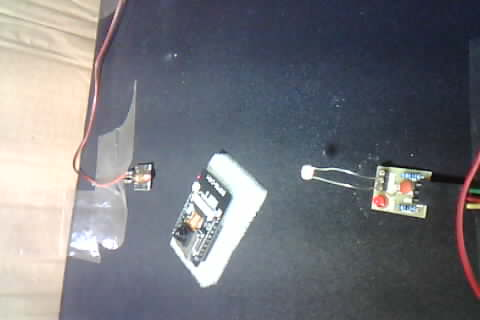esp32: (165, 151, 257, 276)
